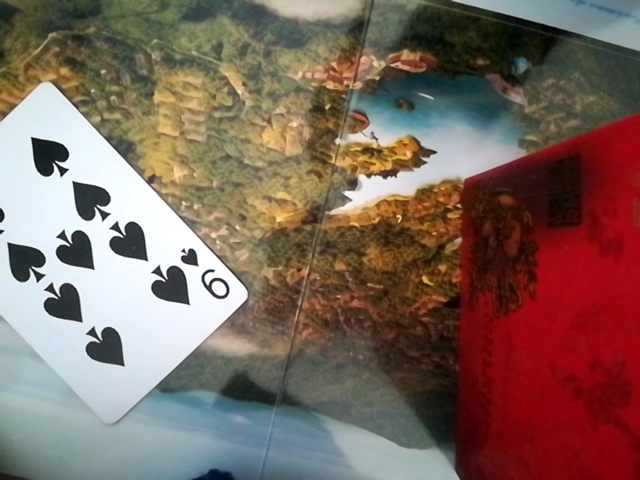ht 9: (1, 79, 247, 424)
